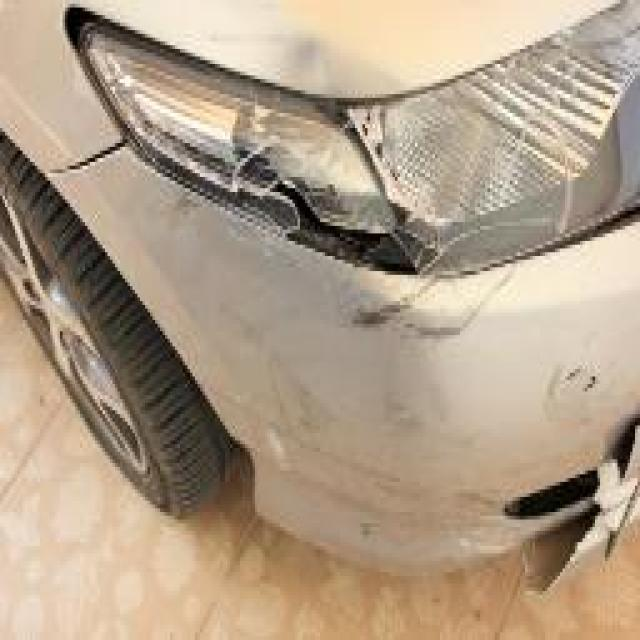Bumper: (325, 246, 640, 588)
Light: (177, 62, 459, 275)
